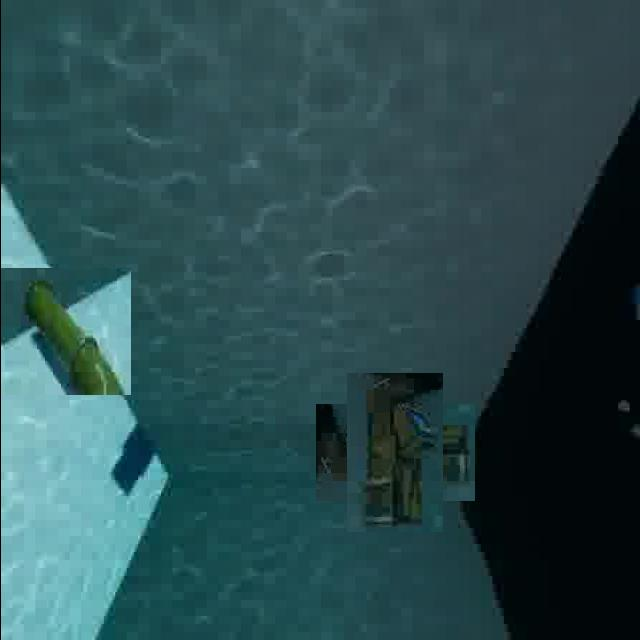Control Panel: (331, 388, 458, 516)
Pipe: (0, 267, 129, 397)
